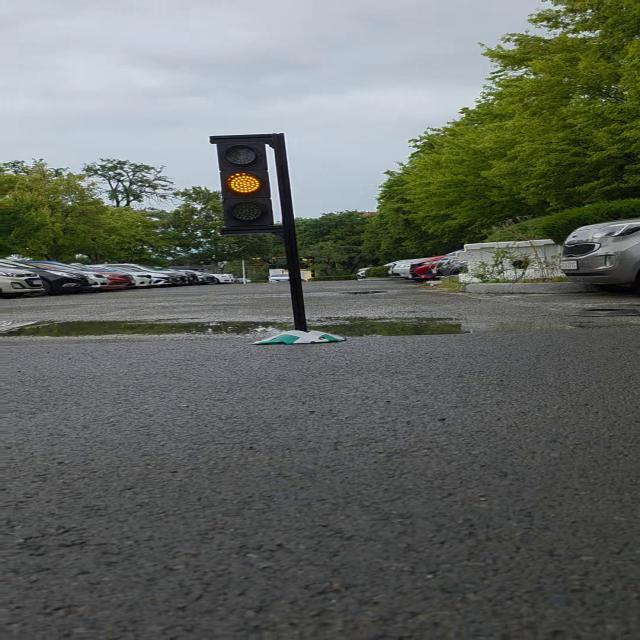yellow: (212, 138, 283, 232)
